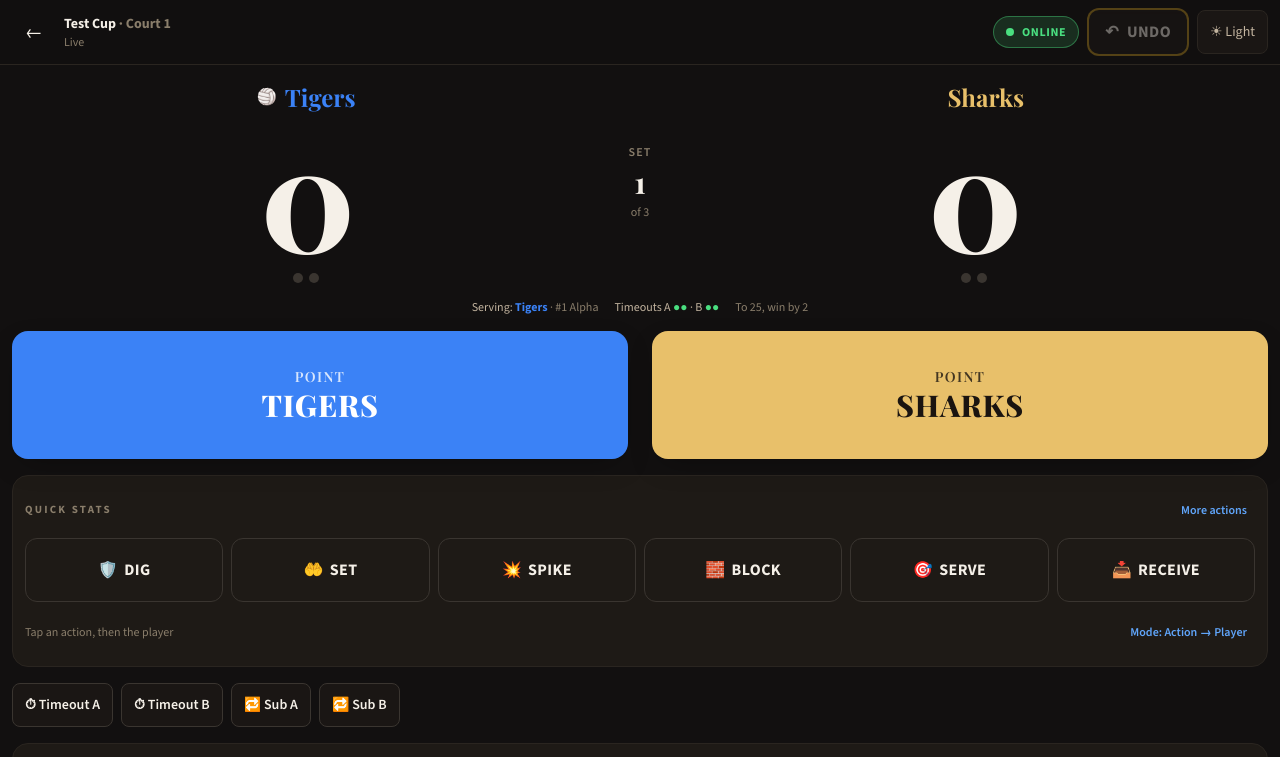
LiveScoring — scorer usability › Test 2 + 3: records a dig and a spike in two taps each, with a confirmation toast
Expected: the button with test id "point-A" is shown, [12, 331, 628, 459]
Click the button with test id "action-dig" at {"x": 124, "y": 570}, box [25, 538, 223, 602]
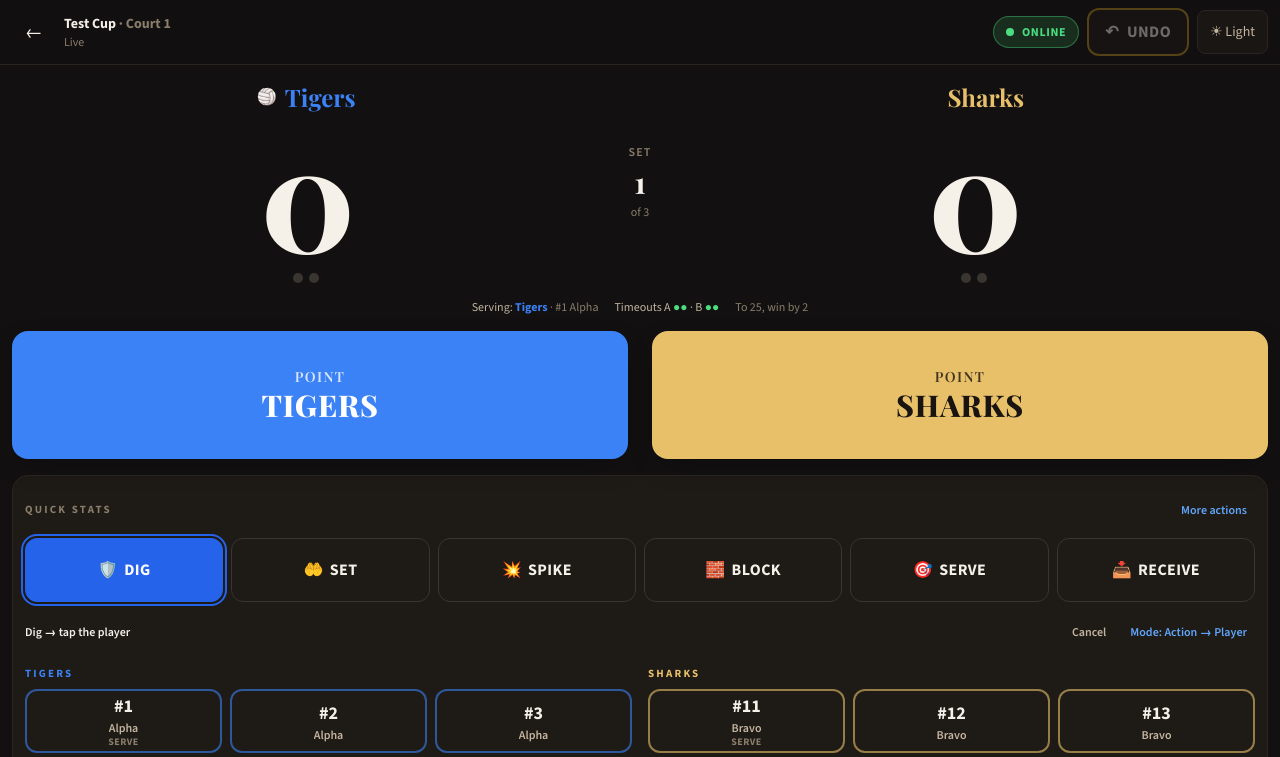
Result: the text with test id "picker-prompt" shows "Dig" at [25, 624, 42, 640]
Click the button with test id "player-13" at {"x": 1156, "y": 720}, box [1058, 688, 1255, 752]
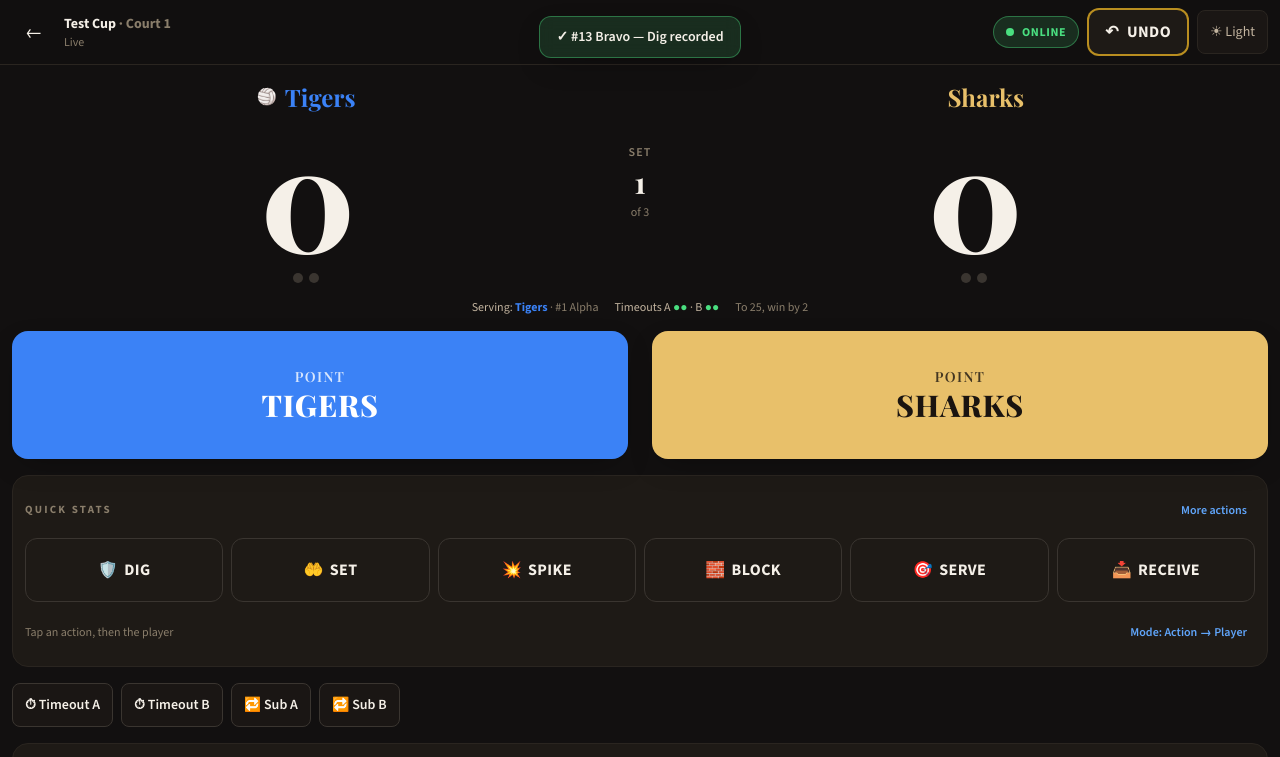
Result: the text "✓ #13 Bravo — Dig recorded" is shown at [556, 27, 724, 47]
Click the button with test id "action-attack" at {"x": 537, "y": 570}, box [438, 538, 636, 602]
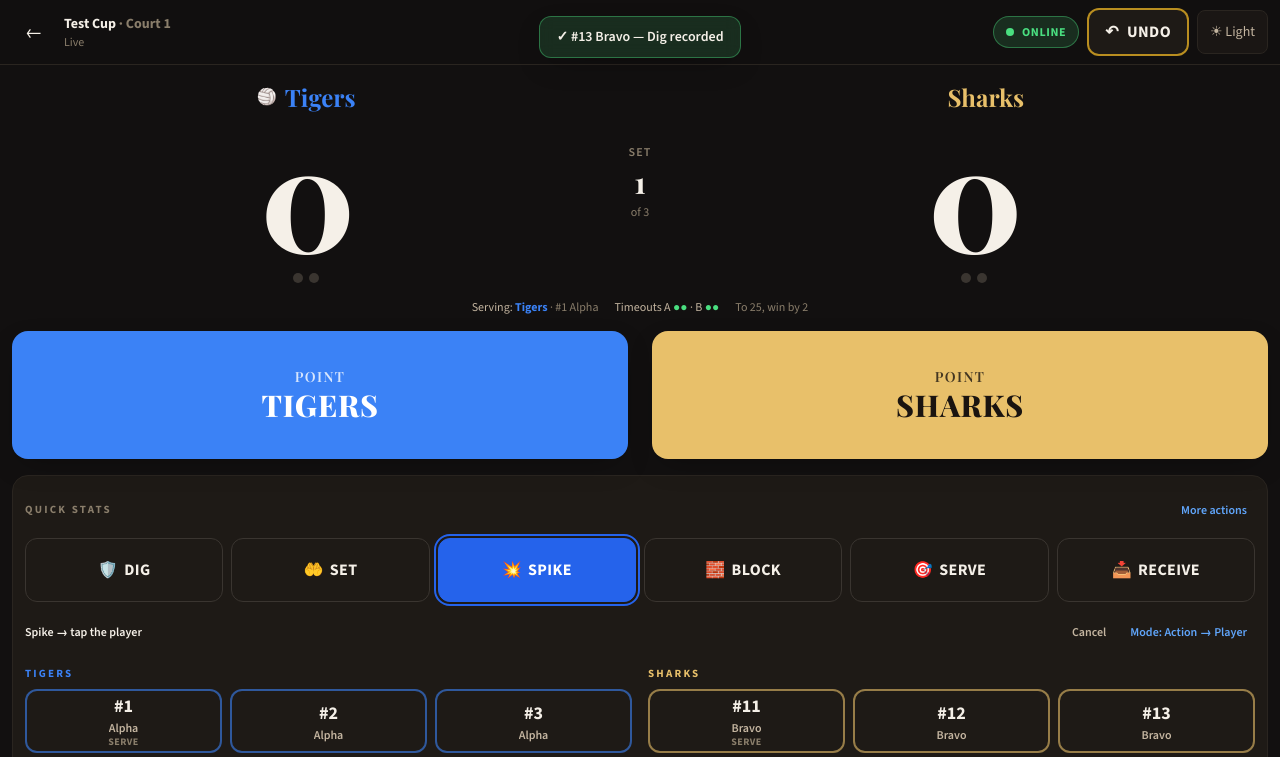
Click the button with test id "player-3" at {"x": 534, "y": 720}, box [435, 688, 632, 752]
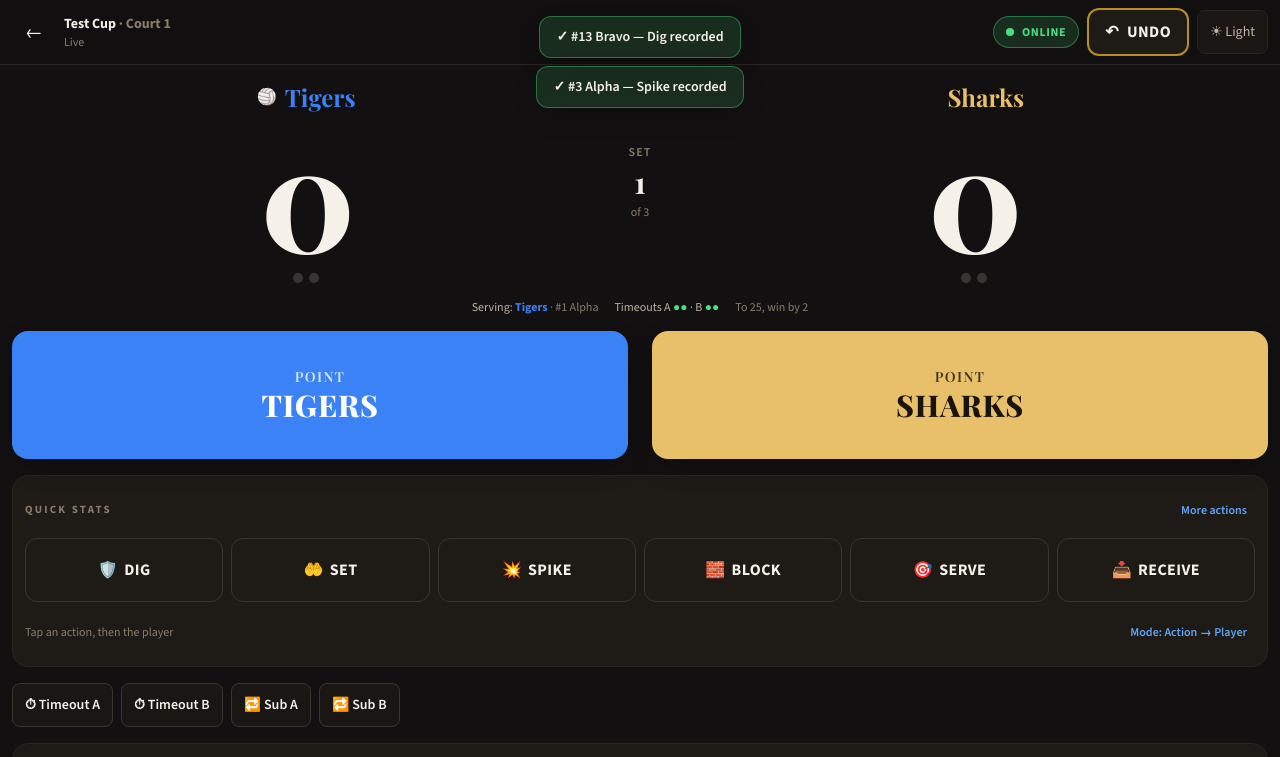
Result: the text "✓ #3 Alpha — Spike recorded" is shown at [554, 77, 727, 97]
